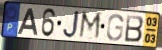6: (40, 7, 57, 38)
A: (16, 7, 39, 37)
B: (124, 14, 145, 43)
G: (106, 13, 125, 42)
J: (62, 10, 81, 39)
M: (78, 10, 103, 42)
